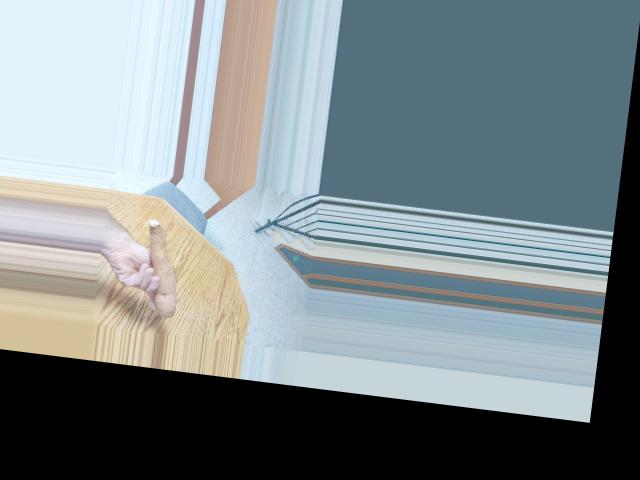sweet_potato: (136, 217, 190, 317)
